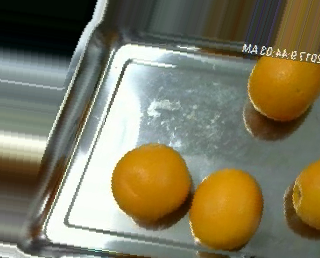Orange: (111, 142, 192, 220), (190, 169, 264, 250)
